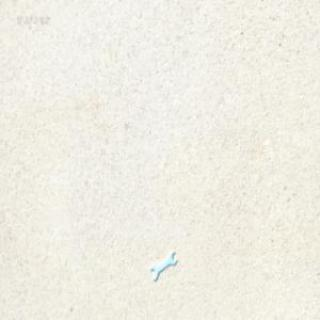Wrenchtrack_idkeyframe: (150, 251, 176, 281)
